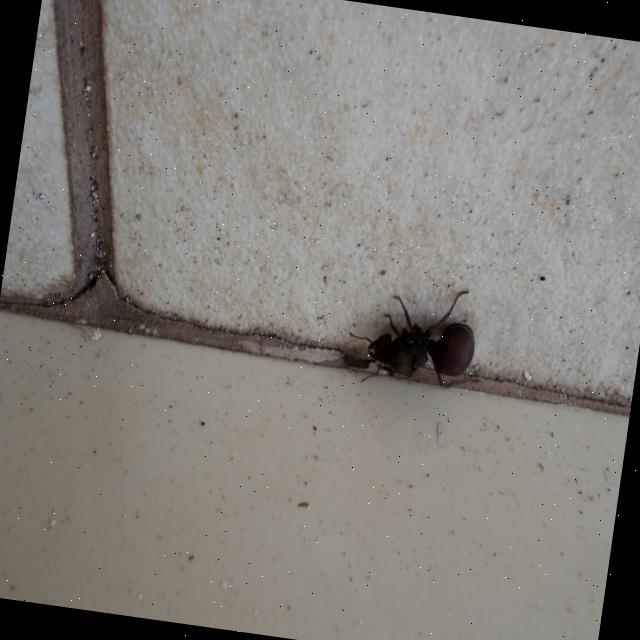Alive-Female-Dealate: (342, 274, 493, 400)
